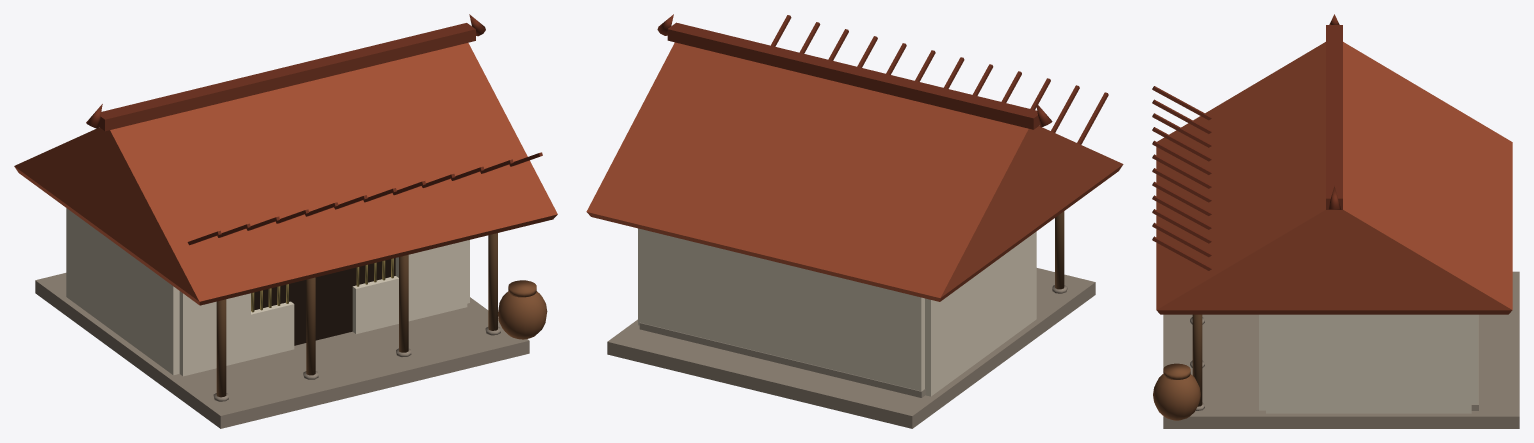
File: house_tile.glb
3 renders of one model, left to right at view 1: azimuth 30°, elevation 25°; view 2: azimuth 150°, elevation 25°; view 3: azimuth 270°, elevation 25°, orthographic. The views are drawn at different scales.
Visible parts, largest first — view 1: Main; view 2: Main; view 3: Main.
Boxes of the visible parts, x1,y1,x2,y2 form: Main: [14, 14, 557, 428]; Main: [586, 14, 1123, 428]; Main: [1152, 14, 1519, 428].
Bounding box in the file's own units: 6.44 × 4.13 × 5.36.
